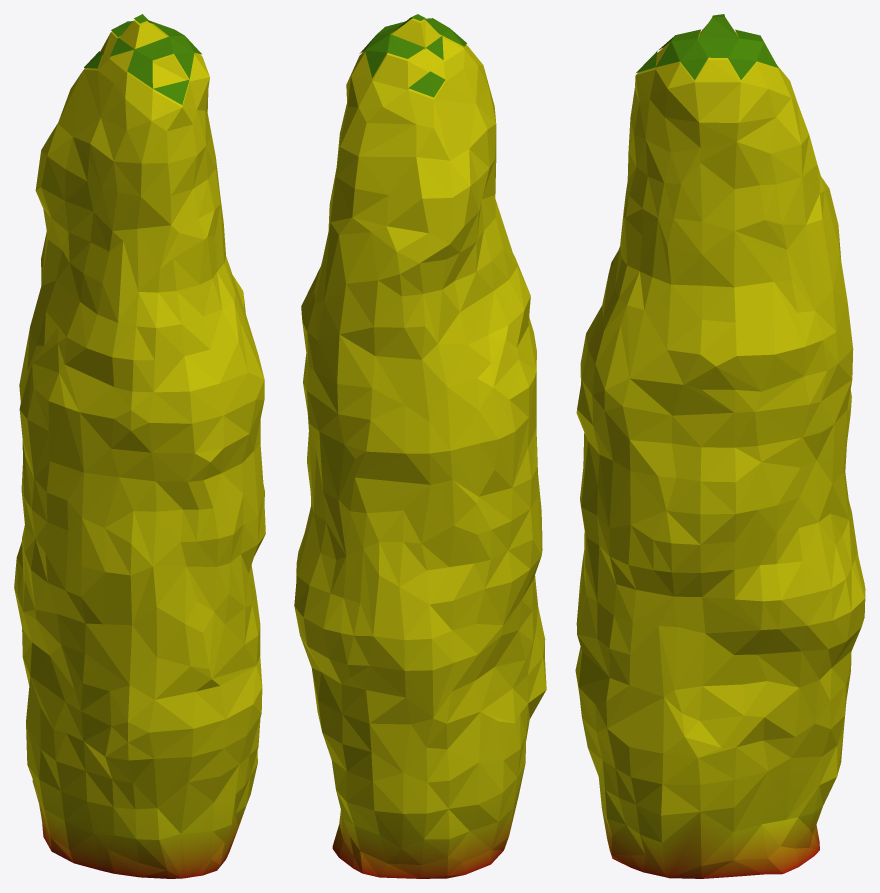
Rendered from canyon_pillar_0.glb.
3 renders of one model, left to right at view 1: azimuth 30°, elevation 25°; view 2: azimuth 150°, elevation 25°; view 3: azimuth 270°, elevation 25°, orthographic.
Parts seen in each view (by area): view 1: canyon_pillar_0.002; view 2: canyon_pillar_0.002; view 3: canyon_pillar_0.002.
Boxes of the visible parts, x1,y1,x2,y2 form: canyon_pillar_0.002: (14, 14, 265, 878); canyon_pillar_0.002: (294, 14, 546, 878); canyon_pillar_0.002: (575, 14, 865, 878).
Size of what is drawn, in the model's own units: 8.63 by 32.7 by 10.32.
